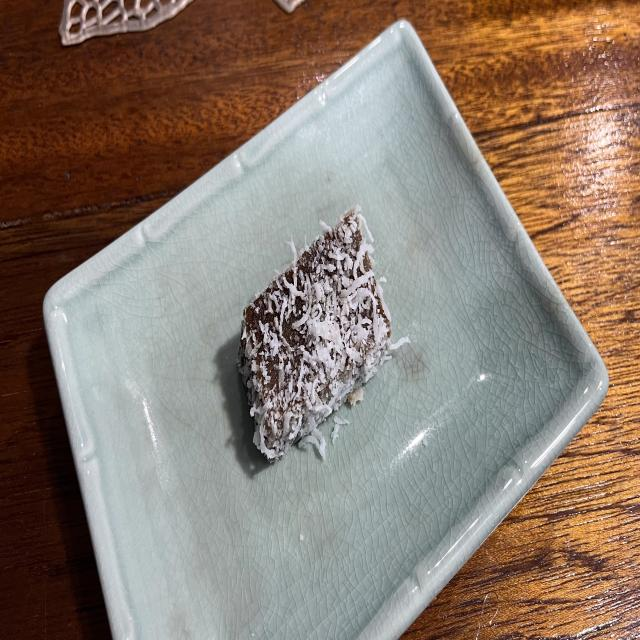kaswi: (238, 207, 408, 460)
